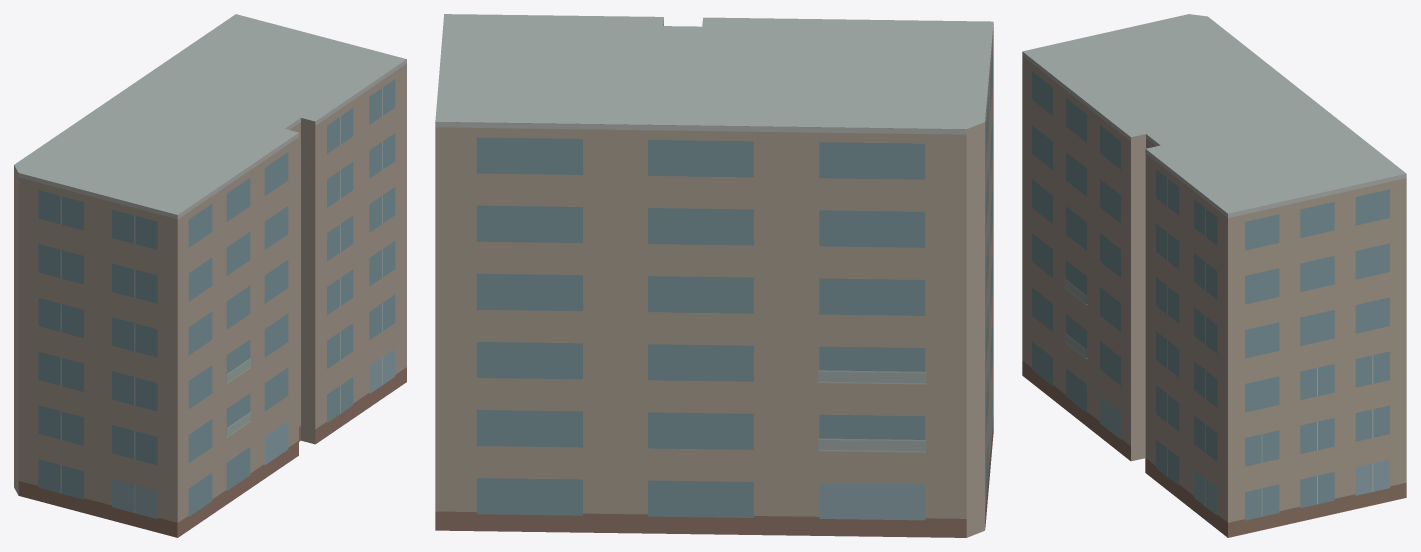
Rendered from survey-upis-32992459.glb.
The picture shows the model from 3 angles, left to right: view 1: azimuth 30°, elevation 25°; view 2: azimuth 150°, elevation 25°; view 3: azimuth 270°, elevation 25°; orthographic projection. The views are drawn at different scales.
Visible parts, largest first — view 1: survey-upis-32992459.tmp; view 2: survey-upis-32992459.tmp; view 3: survey-upis-32992459.tmp.
Boxes of the visible parts, bbox=[...] form: survey-upis-32992459.tmp: bbox=[14, 14, 406, 537]; survey-upis-32992459.tmp: bbox=[435, 14, 993, 537]; survey-upis-32992459.tmp: bbox=[1022, 14, 1406, 537].
Bounding box in the file's own units: 23.67 × 17.9 × 19.25.
